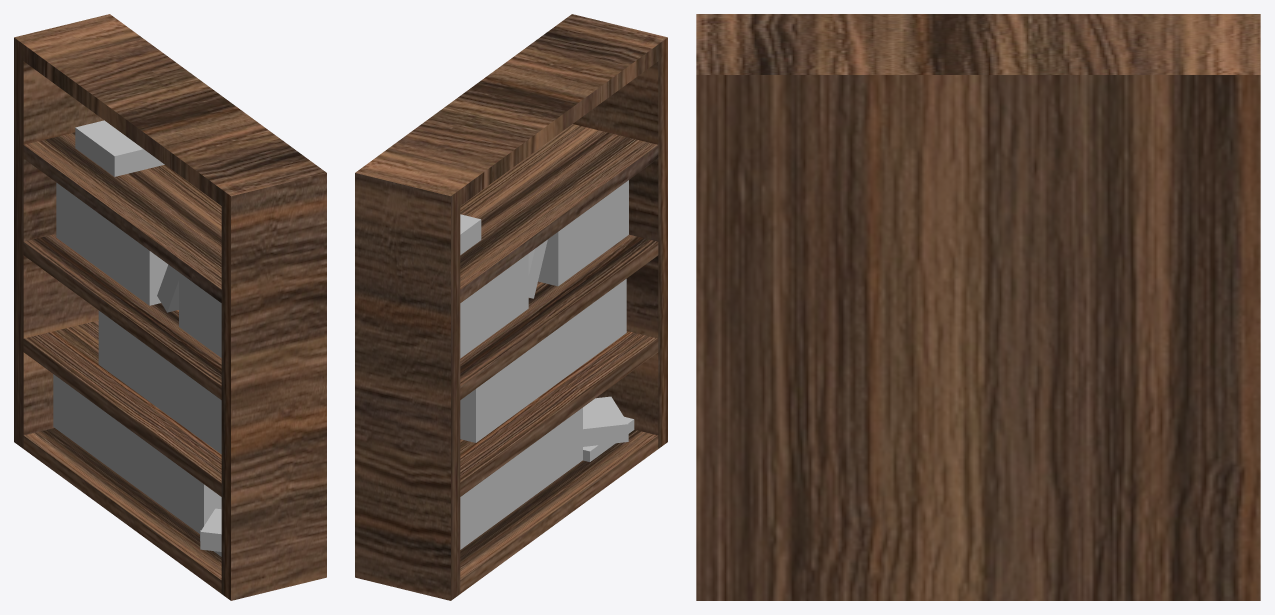
File: bookcasebook4.fbx
3 views of the same model, side by side, from view 1: azimuth 30°, elevation 25°; view 2: azimuth 150°, elevation 25°; view 3: azimuth 270°, elevation 25° (orthographic). The views are drawn at different scales.
Visible parts, largest first — view 1: Box001, Box013, Box016, Box017, Box007, Box018, Box019, Box015; view 2: Box001, Box016, Box013, Box018, Box017, Box015, Box007, Box019, Box014; view 3: Box001.
Boxes of the visible parts, x1,y1,x2,y2 form: Box001: (14, 14, 326, 600); Box013: (53, 374, 221, 533); Box016: (98, 310, 221, 454); Box017: (56, 182, 168, 305); Box007: (75, 120, 164, 176); Box018: (179, 272, 221, 357); Box019: (157, 264, 178, 312); Box015: (200, 508, 221, 551); Box001: (355, 14, 667, 600); Box016: (460, 279, 626, 442); Box013: (460, 407, 582, 549); Box018: (538, 180, 628, 286); Box017: (460, 253, 528, 358); Box015: (583, 396, 628, 446); Box007: (460, 214, 481, 254); Box019: (528, 239, 547, 298); Box014: (583, 416, 634, 461); Box001: (696, 14, 1260, 600).
Bounding box in the file's own units: 343 × 1384 × 1346.
